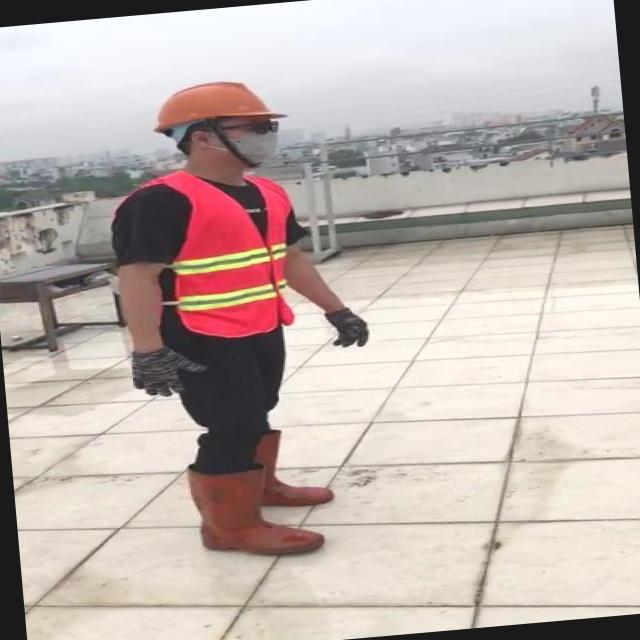boots: (186, 463, 326, 563), (214, 425, 333, 515)
gloves: (122, 324, 208, 414), (313, 282, 377, 362)
helmet: (150, 73, 288, 134)
vest: (162, 166, 302, 340)
